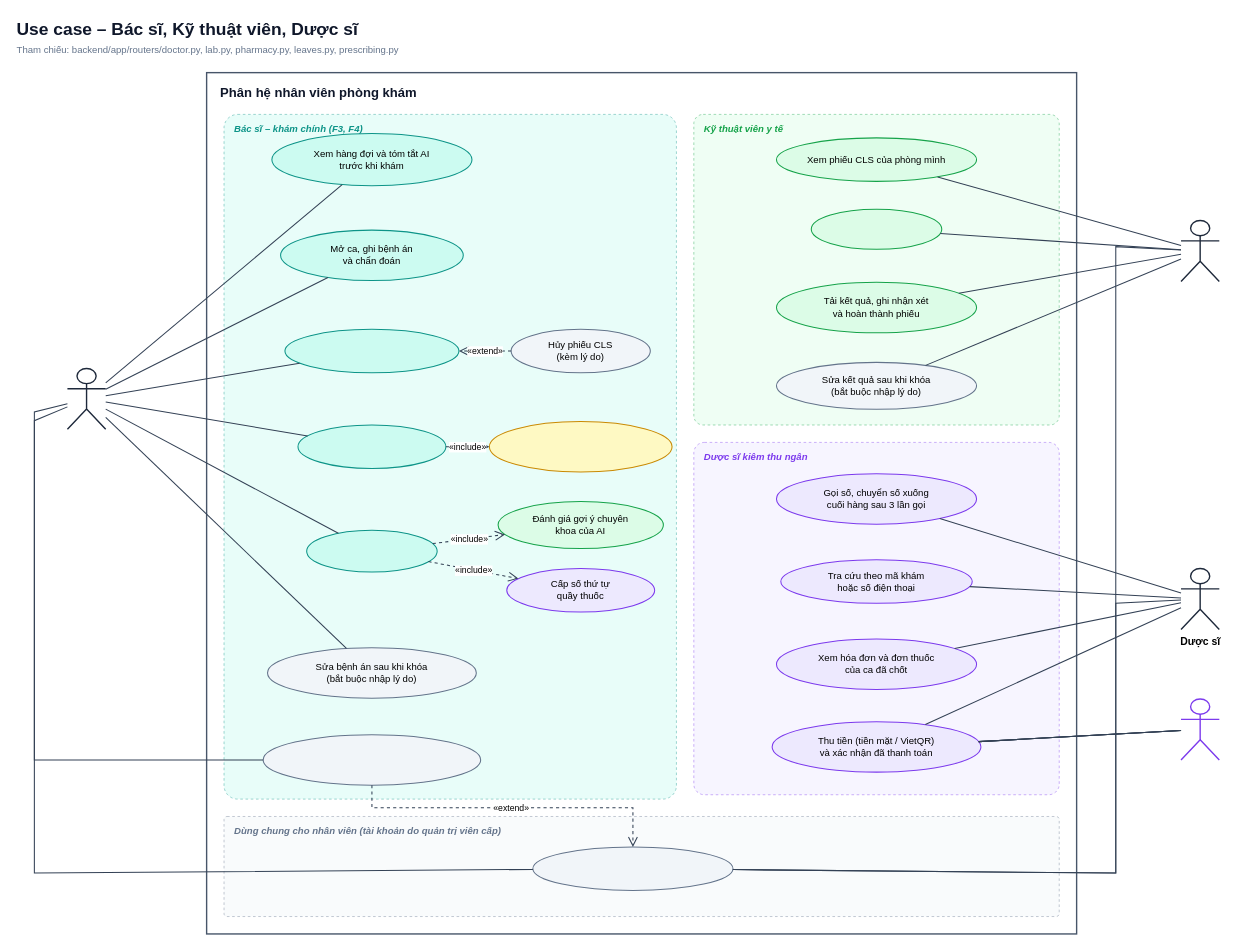
The diagram is 1256 pixels wide and 949 high, and some of its shapes have lost their labels. The centre of each missing label's shape, as x and y in pixels:
"Bác sĩ" goes at point (86, 398).
"Chỉ định cận lâm sàng" goes at point (371, 350).
"Chốt ca" goes at point (371, 550).
"Cổng ngân hàng SePay (VietQR)" goes at point (1200, 729).
"Kiểm tra trùng hoạt chất, vượt liều, tính tiền" goes at point (580, 446).
"Kê đơn thuốc" goes at point (371, 446).
"Kỹ thuật viên" goes at point (1200, 250).
"Nhận phiếu" goes at point (876, 228).
"Xem bệnh nhân bị ảnh hưởng và bác sĩ thay thế khi nghỉ" goes at point (371, 759).
"Đăng ký nghỉ (sáng / chiều / cả ngày)" goes at point (632, 868).
